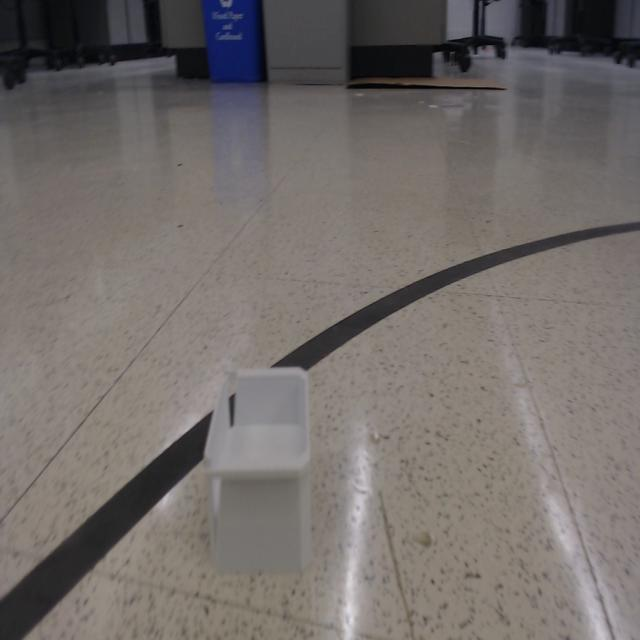wbox: (200, 360, 315, 577)
